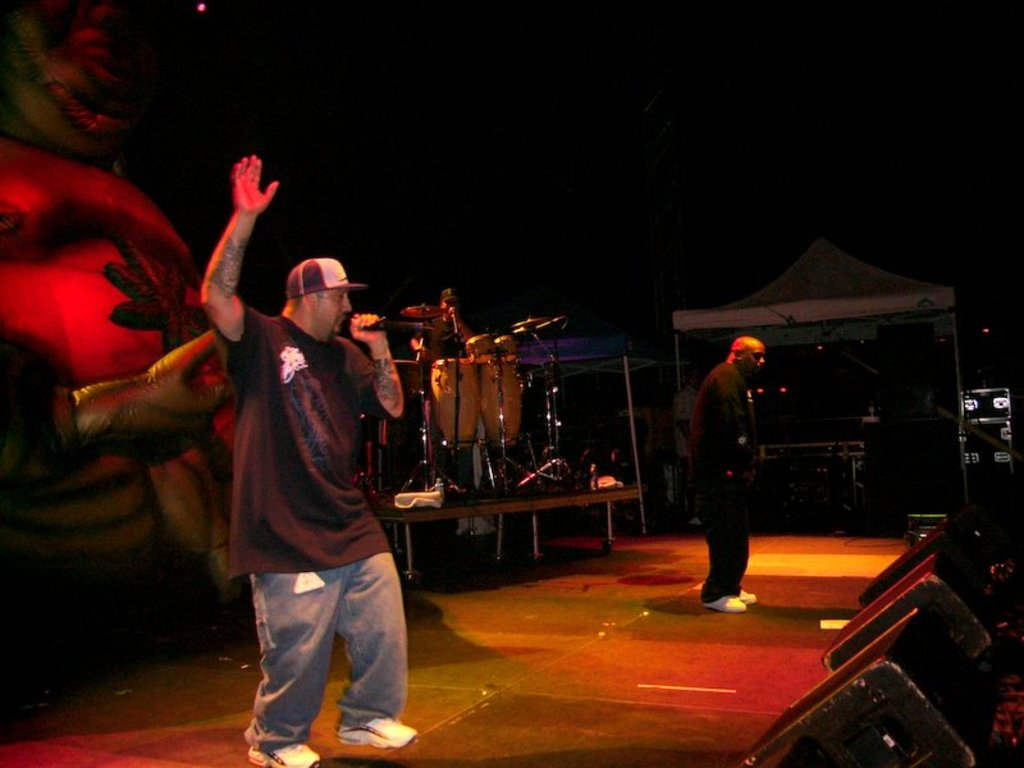Human_hand: (224, 148, 280, 211), (349, 312, 389, 346), (742, 467, 758, 488)
